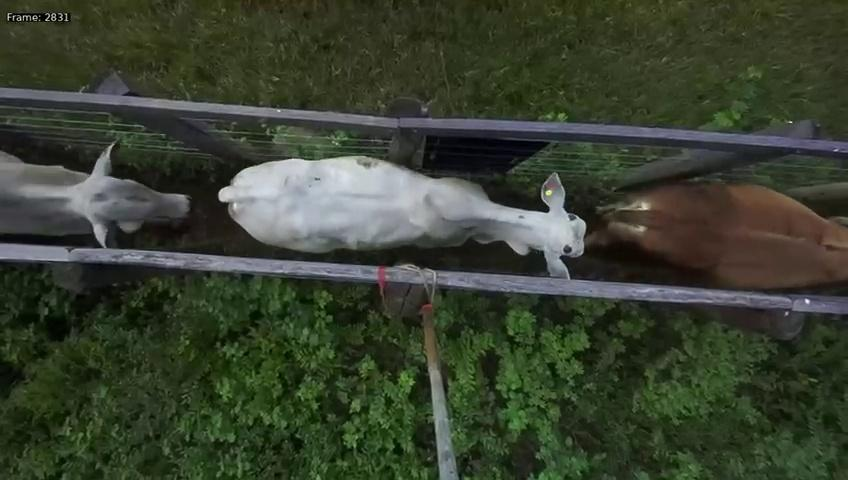cattle: (212, 129, 589, 279)
